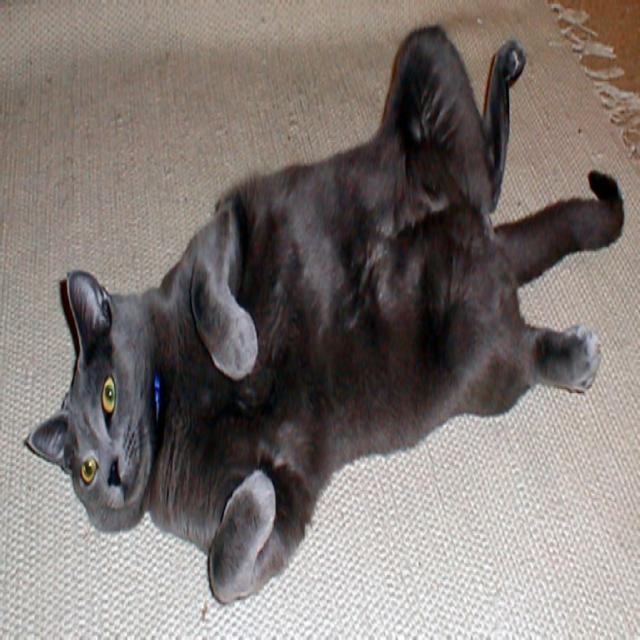Cat: (23, 24, 624, 601)
